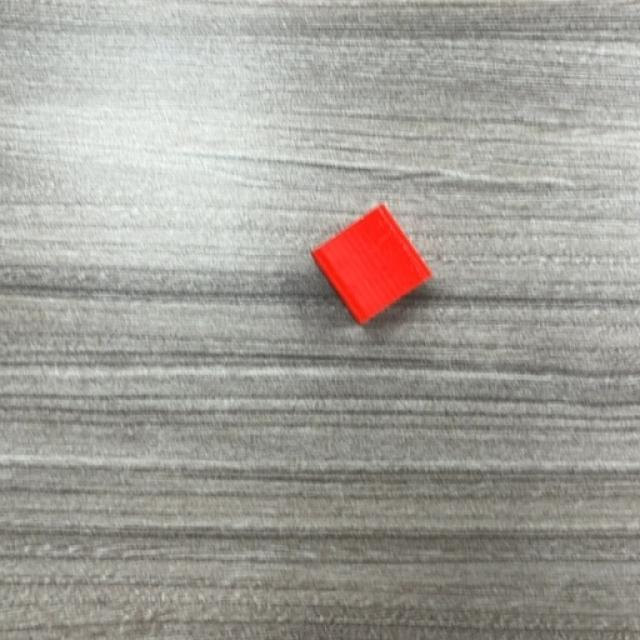Rojo: (310, 205, 434, 326)
